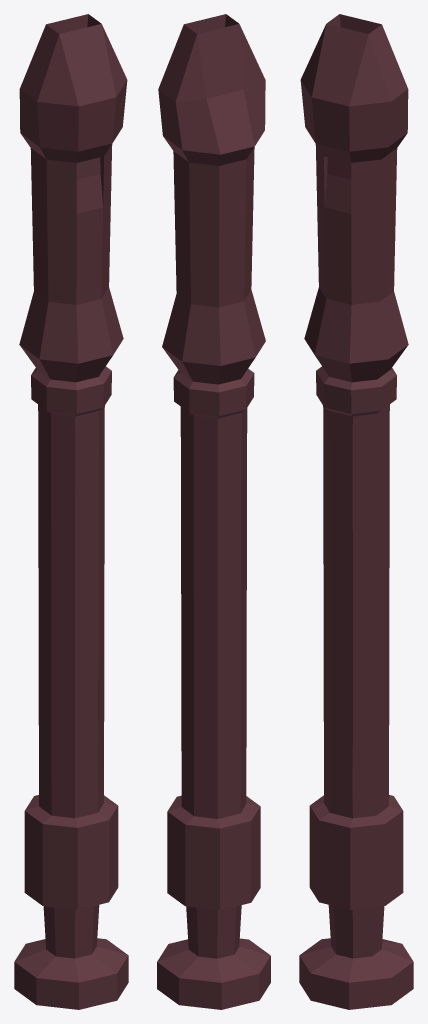
Rendered from soprano-recorder.fbx.
3 renders of one model, left to right at view 1: azimuth 30°, elevation 25°; view 2: azimuth 210°, elevation 25°; view 3: azimuth 330°, elevation 25°, orthographic.
Parts seen in each view (by area): view 1: soprano-recorder; view 2: soprano-recorder; view 3: soprano-recorder.
Boxes of the visible parts, bbox=[...] form: soprano-recorder: bbox=[14, 14, 128, 1009]; soprano-recorder: bbox=[157, 14, 270, 1009]; soprano-recorder: bbox=[299, 14, 413, 1009].
Bounding box in the file's own units: 0.0331 × 0.33 × 0.0331.
